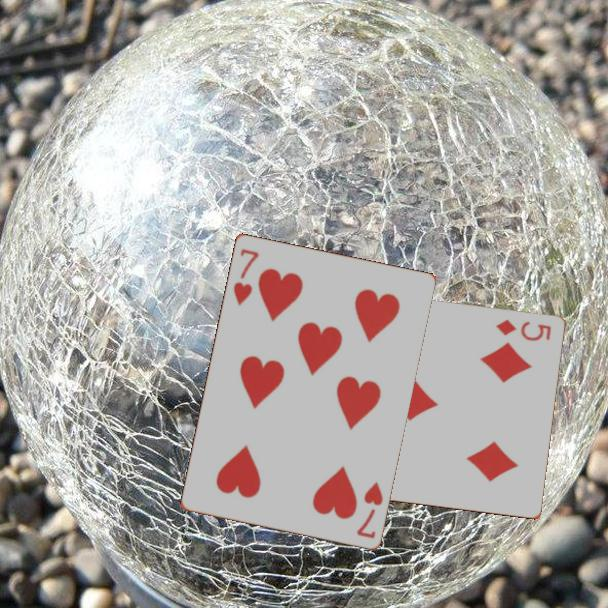d05: (492, 316, 554, 344)
h07: (353, 478, 386, 541), (229, 245, 261, 308)
